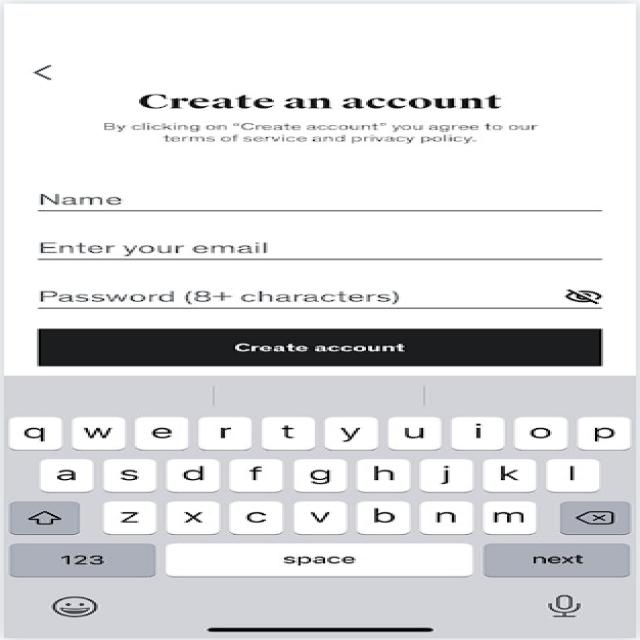button: (15, 322, 624, 373)
icon button: (18, 50, 73, 90)
input: (24, 165, 612, 222), (24, 268, 617, 315), (30, 219, 610, 267)
text: (82, 92, 578, 154)
